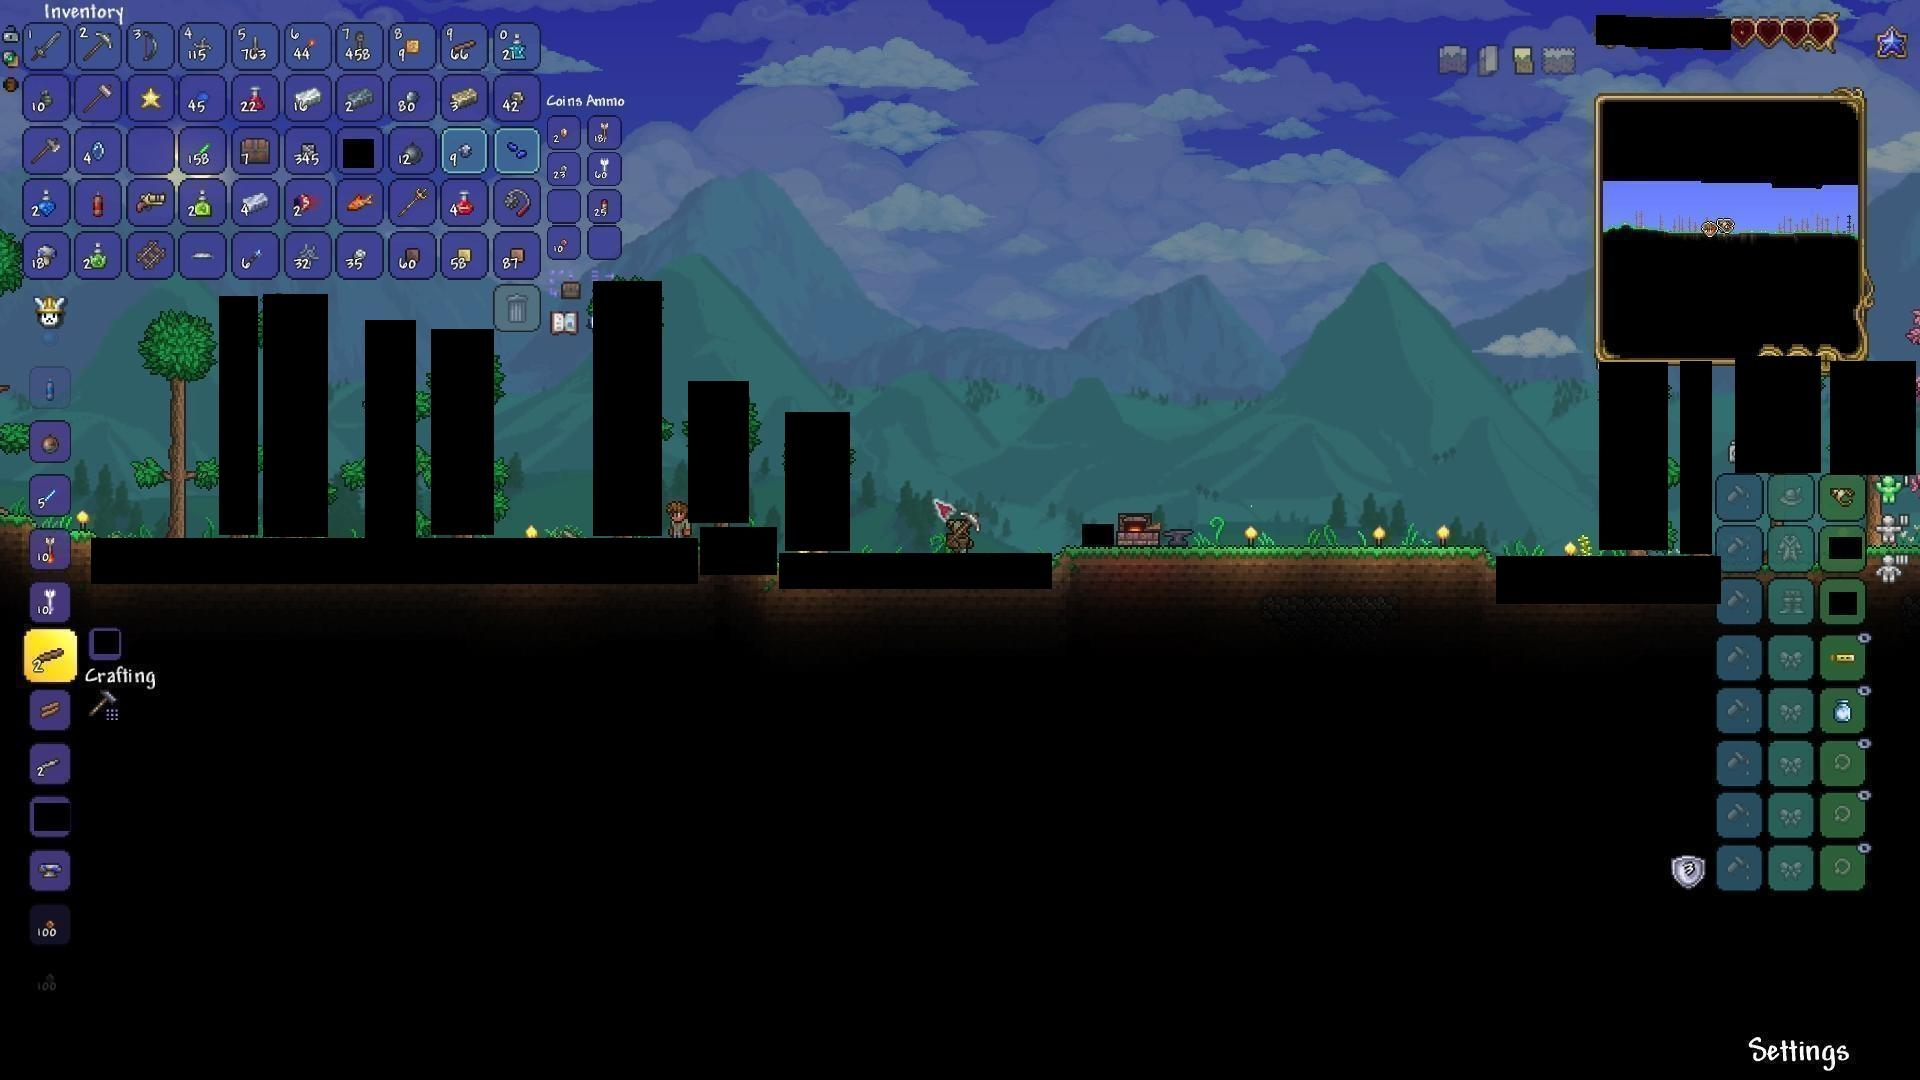dirt: (1056, 541, 1495, 591)
helmet: (1830, 485, 1858, 506)
tree: (145, 301, 210, 537)
wood: (38, 698, 65, 727)
